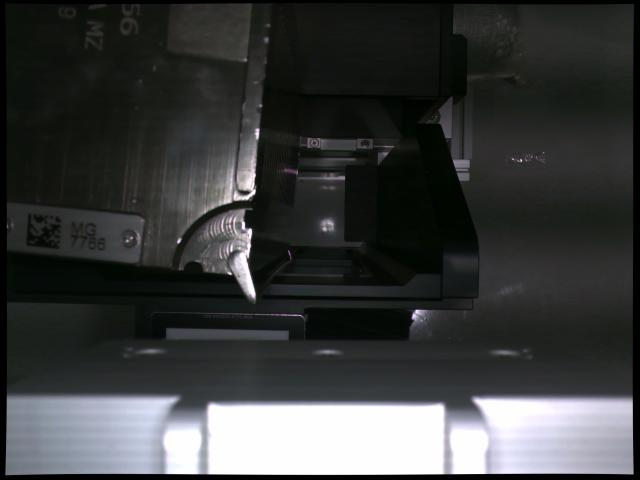jig_latch: (228, 251, 256, 304)
